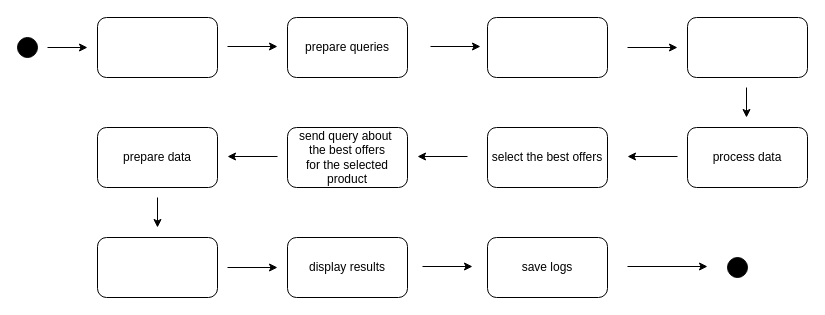
This 825x315 diagram has some shape labels left out. The centre of each missing label's shape, as x and y in pixels:
"load data" goes at (157,47).
"receive answer" goes at (747,47).
"repeat algorithm for the rest of the items" goes at (157,267).
"send queries" goes at (547,47).
